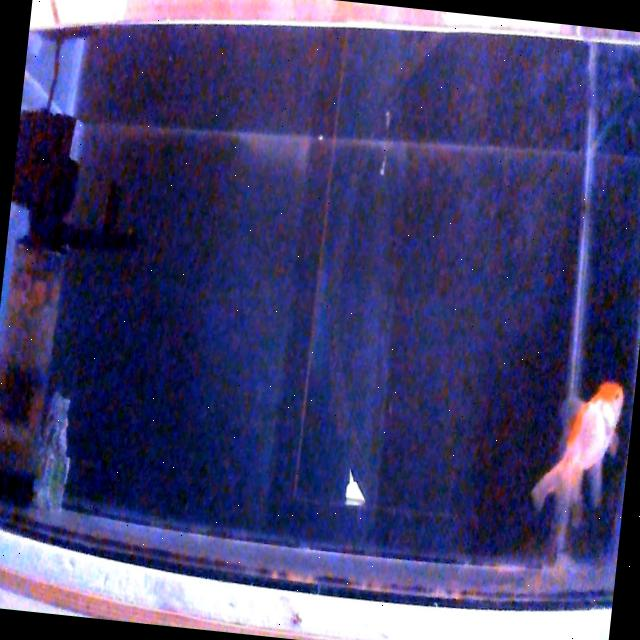fish: (526, 374, 626, 539)
